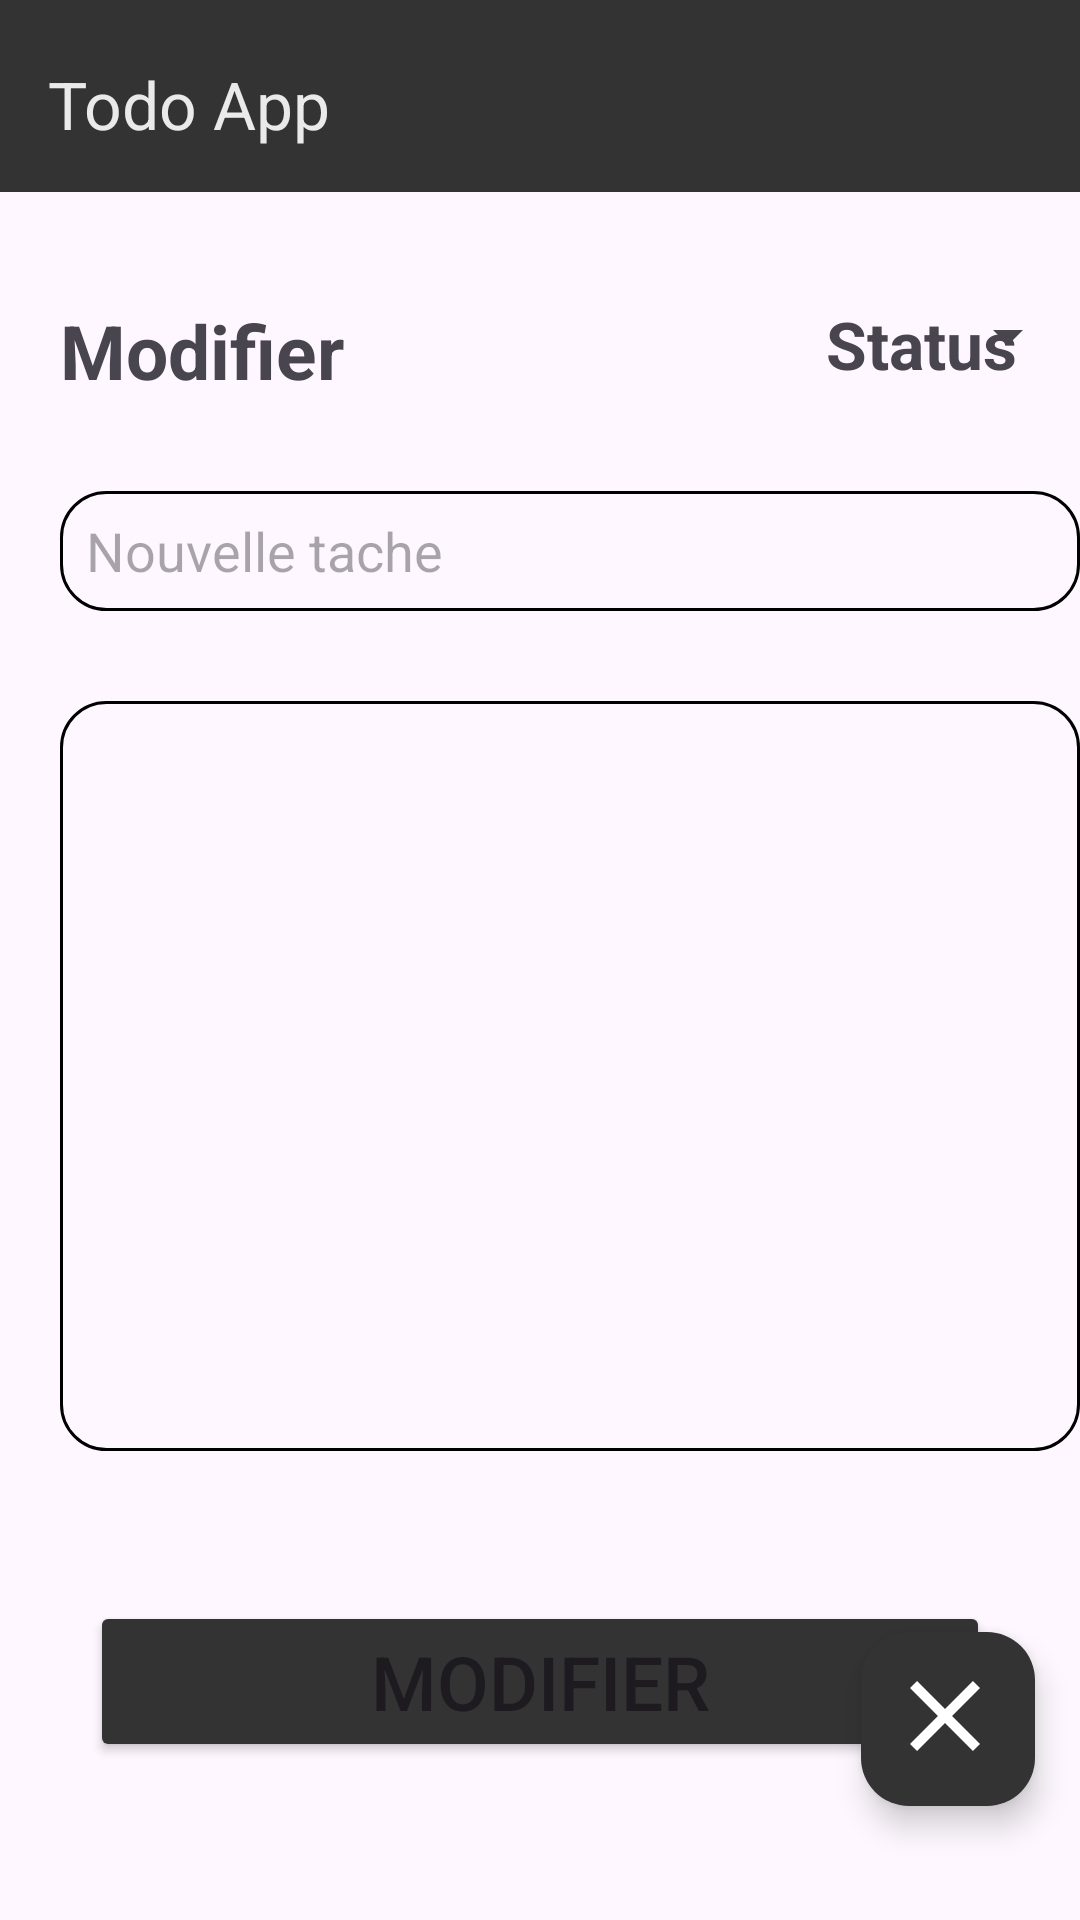

Where to tap for icons on this 1080 × 1920 app screen, as point (x, y):
close: point (948, 1719)
